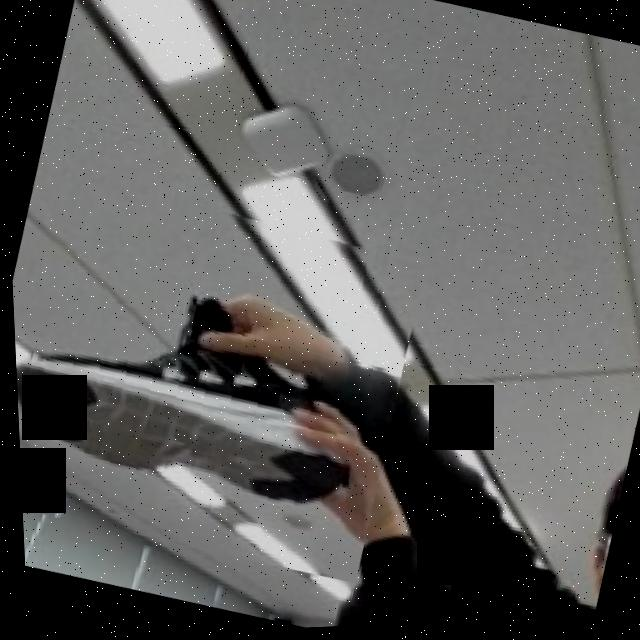shoe: (6, 158, 437, 597)
